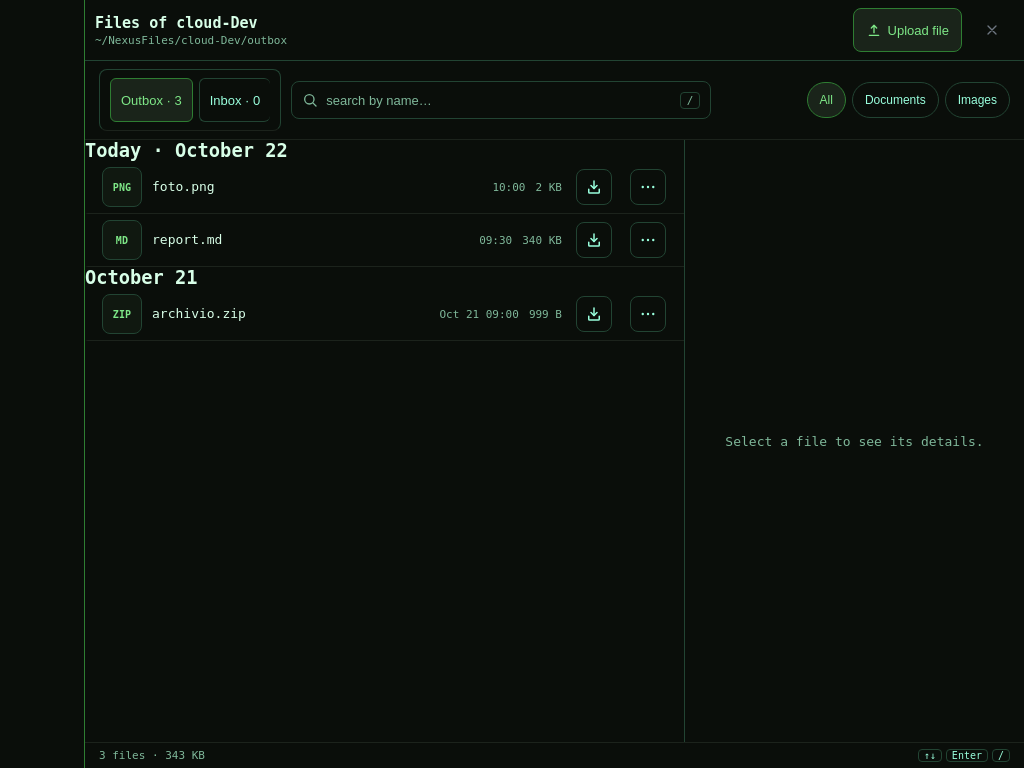
FilesPanel desktop — filtri a pillola › Tutti/Documenti/Immagini filtrano l'elenco e il piè di pagina segue
Expected: the number of rows is 3, [85,161,684,214]; [85,214,684,267]; [85,288,684,341]
Expected: the text "3 files · 343 KB" is shown, [99,749,205,762]
Click the button "Images" at coordinates (977, 100), box [945,82,1010,118]
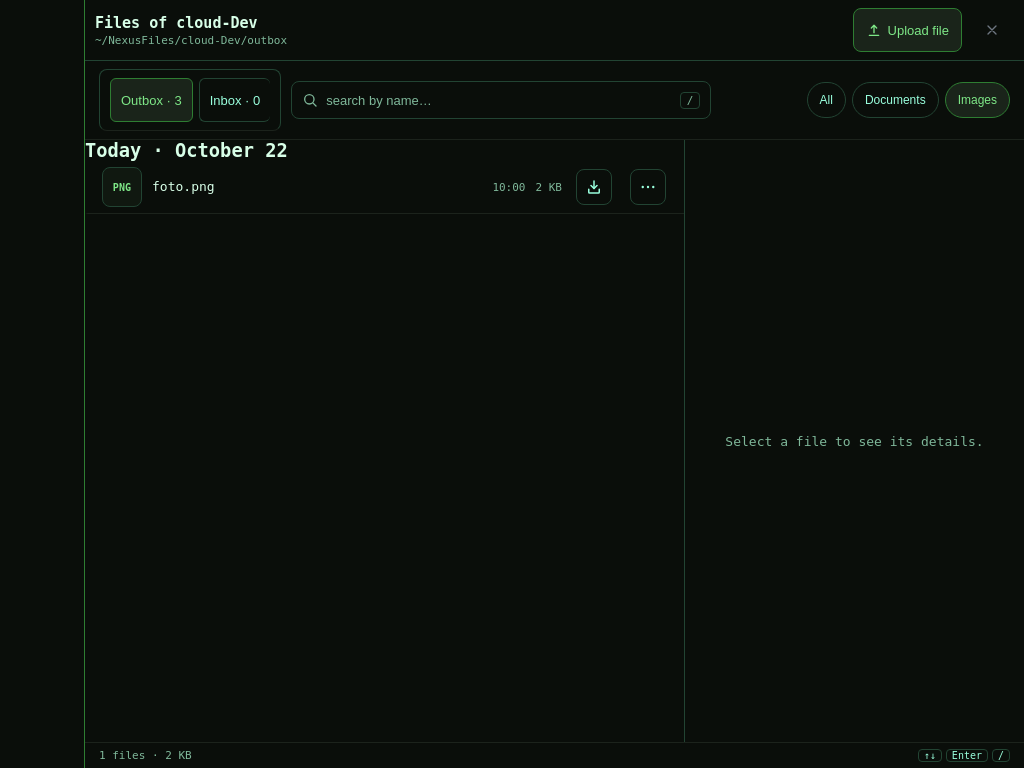
Expected: the text "foto.png" is shown, [152,178,215,194]
Now the number of rows is 1, box [85,161,684,214]
Now the text "1 files · 2 KB" is shown, box [99,749,192,762]
Click the button "Documents" at coordinates (895, 100), box [852,82,939,118]
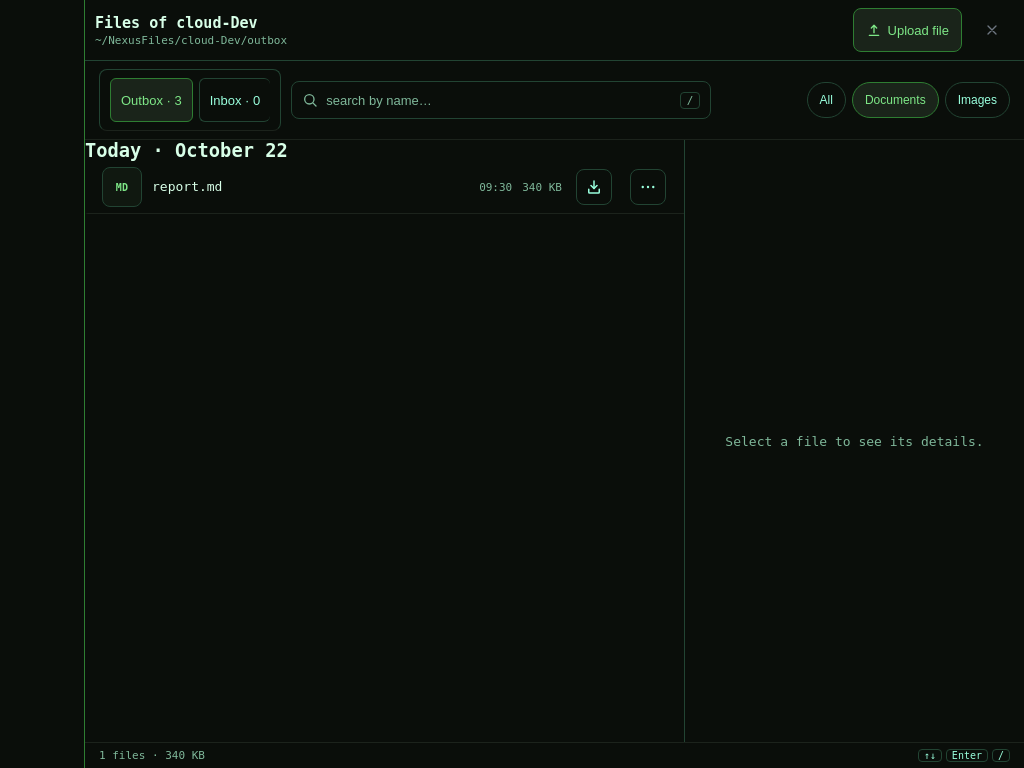
Now the text "report.md" is shown, box [152,178,222,194]
Now the text "foto.png" is gone
Click the button "All" at coordinates (826, 100), box [807,82,846,118]
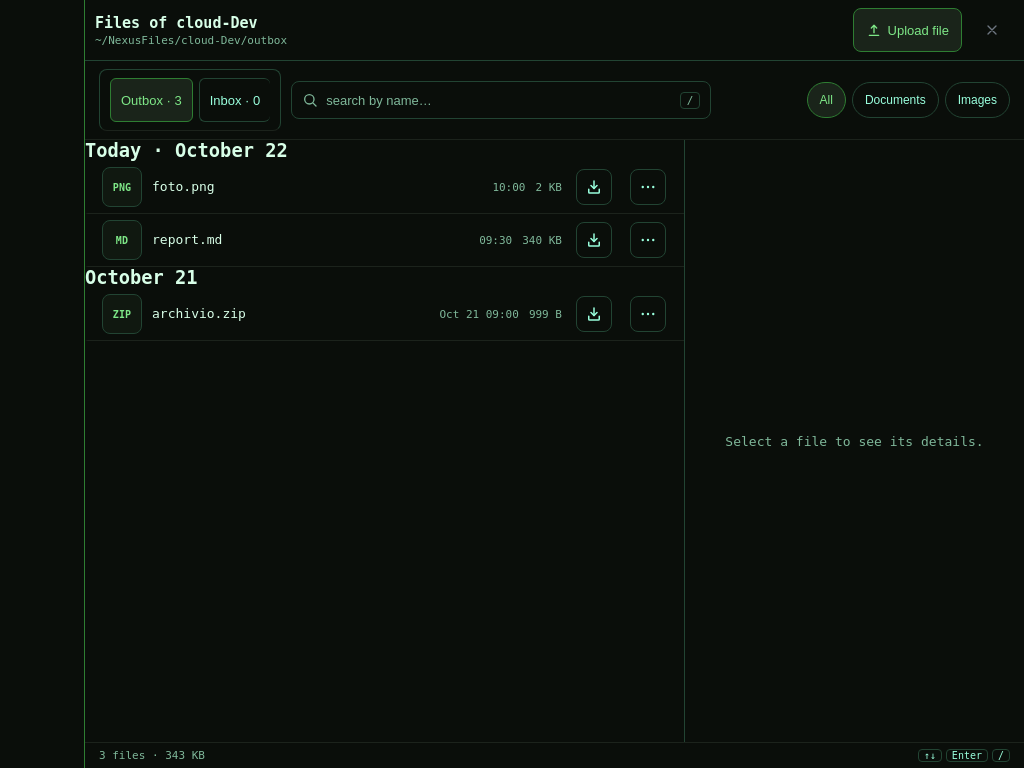
Now the number of rows is 3, box [85,161,684,214]; [85,214,684,267]; [85,288,684,341]
